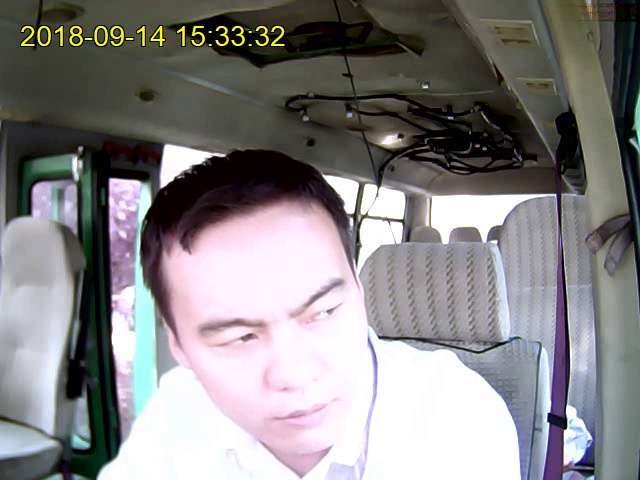closed_mouth: (269, 398, 333, 427)
open_eye: (303, 302, 346, 324), (211, 331, 261, 349)
